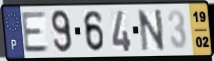3: (167, 8, 189, 51)
4: (110, 8, 133, 54)
6: (82, 9, 106, 54)
9: (50, 8, 74, 56)
E: (20, 11, 51, 55)
N: (136, 8, 167, 53)
